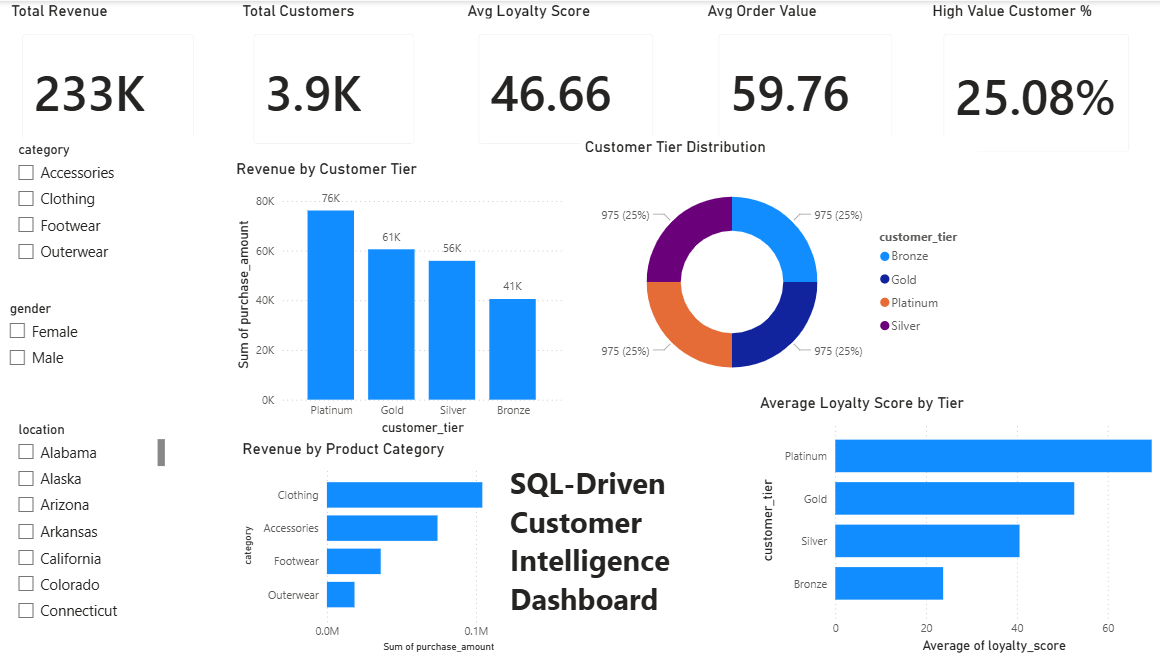

Layout of this report page (visuals, bound fields, positions):
{"tool":"powerbi","page":{"name":"Page 1","canvas":[1280,720],"ordinal":0},"visuals":[{"type":"cardVisual","title":"Total Revenue","fields":{"Data":["Sum(customer_features.purchase_amount)"]},"box":[9.6,0,223.7,174.3],"z":0},{"type":"cardVisual","title":"Total Customers","fields":{"Data":["CountNonNull(customer_features.customer_id)"]},"box":[263.5,0,211.3,174.3],"z":1000},{"type":"cardVisual","title":"Avg Loyalty Score","fields":{"Data":["Avg(customer_features.loyalty_score)"]},"box":[510.5,0,226.4,174.3],"z":2000},{"type":"cardVisual","title":"Avg Order Value","fields":{"Data":["Avg(customer_features.purchase_amount)"]},"box":[773.9,0,225,174.3],"z":3000},{"type":"cardVisual","title":"High Value Customer %","fields":{"Data":["Avg(customer_features.high_value_customer)"]},"box":[1020.9,0,238.8,183.9],"z":4000},{"type":"clusteredColumnChart","title":"Revenue by Customer Tier","fields":{"Category":["customer_features.customer_tier"],"Y":["Sum(customer_features.purchase_amount)"]},"box":[256.6,174.3,367.8,307.4],"z":5000},{"type":"donutChart","title":"Customer Tier Distribution","fields":{"Category":["customer_features.customer_tier"],"Y":["Count(customer_features.customer_id)"]},"box":[639.5,149.6,435,299.1],"z":6000},{"type":"slicer","fields":{"Values":["customer_features.gender"]},"box":[0,323.8,209.9,122.1],"z":7000},{"type":"slicer","fields":{"Values":["customer_features.category"]},"box":[9.6,149.6,234.6,174.3],"z":8000},{"type":"slicer","fields":{"Values":["customer_features.location"]},"box":[9.6,456.9,178.4,237.4],"z":9000},{"type":"clusteredBarChart","title":"Average Loyalty Score by Tier","fields":{"Category":["customer_features.customer_tier"],"Y":["Avg(customer_features.loyalty_score)"]},"box":[831.6,430.9,448.7,289.5],"z":10000},{"type":"clusteredBarChart","title":"Revenue by Product Category","fields":{"Category":["customer_features.category"],"Y":["Sum(customer_features.purchase_amount)"]},"box":[263.5,481.6,362.3,238.8],"z":11000},{"type":"textbox","box":[557.1,502.2,274.4,196.2],"z":11001}]}

Visuals, with their boxes in screenshot pixels (x1, y1, x2, y2), scaled from the page's 1280x720 canvas onto the 1160x656 screenshot:
"Total Revenue" cardVisual: locate(9, 0, 211, 159)
"Total Customers" cardVisual: locate(239, 0, 430, 159)
"Avg Loyalty Score" cardVisual: locate(463, 0, 668, 159)
"Avg Order Value" cardVisual: locate(701, 0, 905, 159)
"High Value Customer %" cardVisual: locate(925, 0, 1142, 168)
"Revenue by Customer Tier" clusteredColumnChart: locate(233, 159, 566, 439)
"Customer Tier Distribution" donutChart: locate(580, 136, 974, 409)
slicer - customer_features.gender: locate(0, 295, 190, 406)
slicer - customer_features.category: locate(9, 136, 221, 295)
slicer - customer_features.location: locate(9, 416, 170, 633)
"Average Loyalty Score by Tier" clusteredBarChart: locate(754, 393, 1159, 655)
"Revenue by Product Category" clusteredBarChart: locate(239, 439, 567, 655)
textbox: locate(505, 458, 754, 636)
